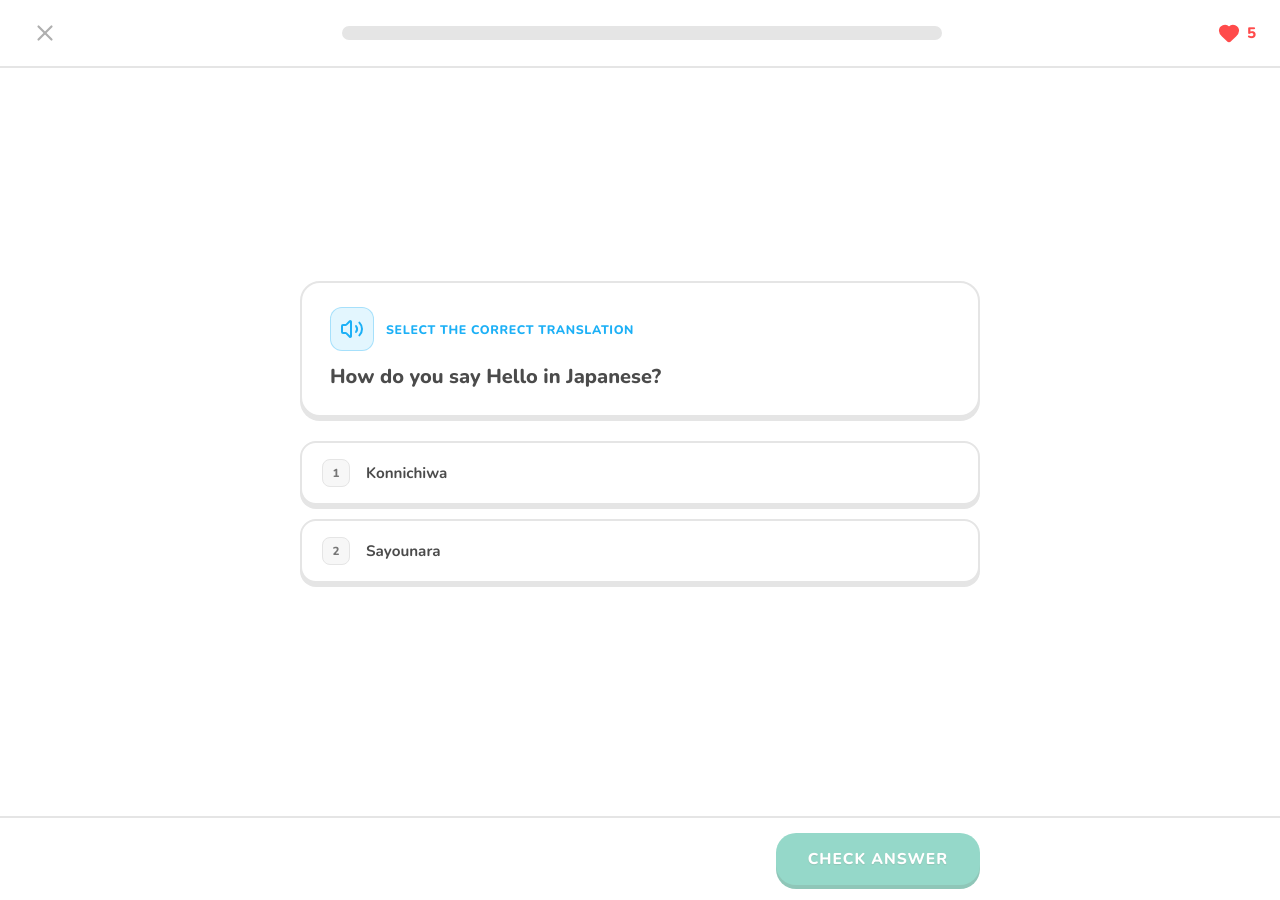
Scenario: LessonRunner Component (Quest Engine) › advances to next exercise when Continue is clicked on correct drawer
The image size is (1280, 900).
# Exercise 1
Click the radio button labelled "1 Konnichiwa" at (407,473), box [300,441,980,505]
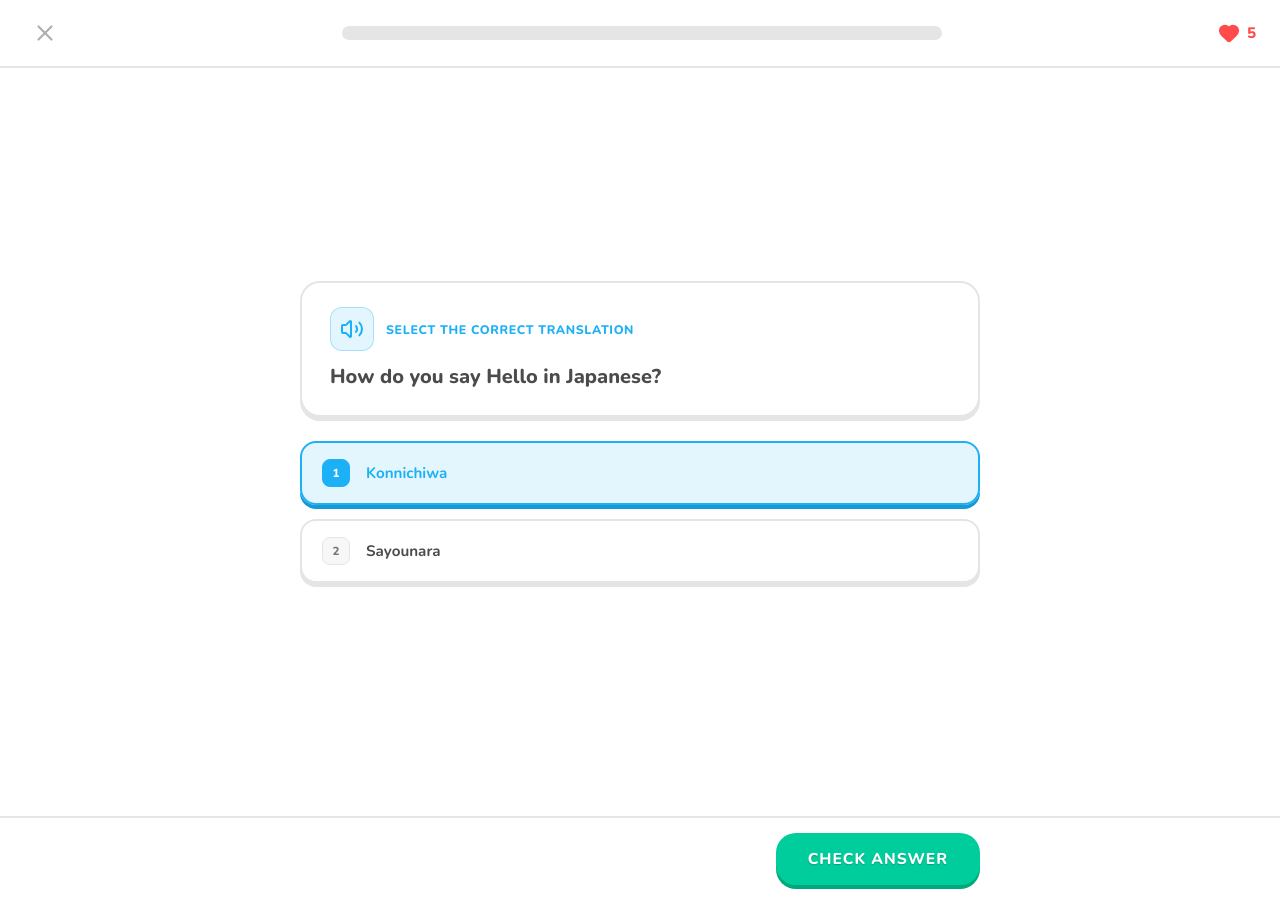
Click the button "Check Answer" at (878,859), box [776,833,980,885]
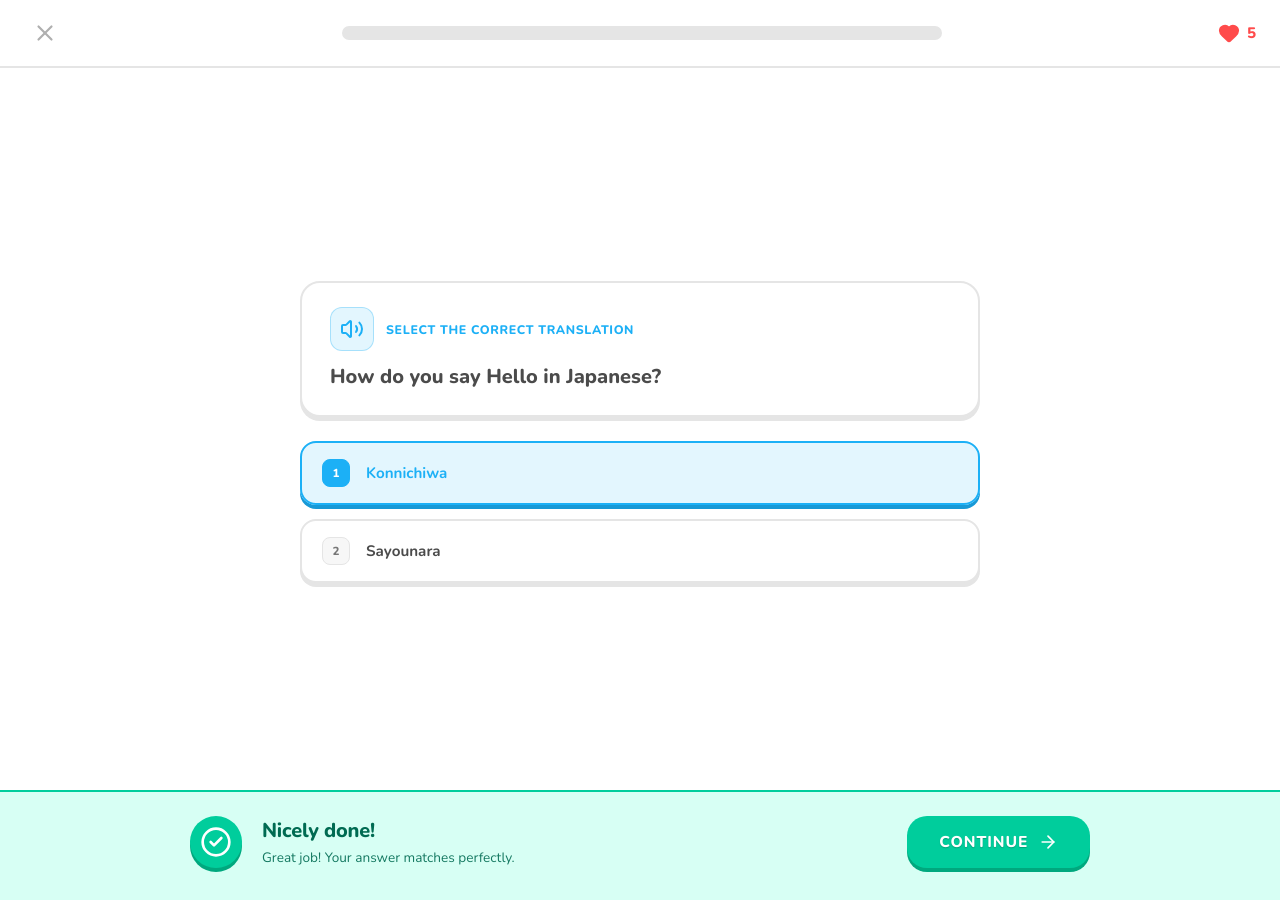
Click the button "Continue" at (999,842), box [907,816,1090,868]
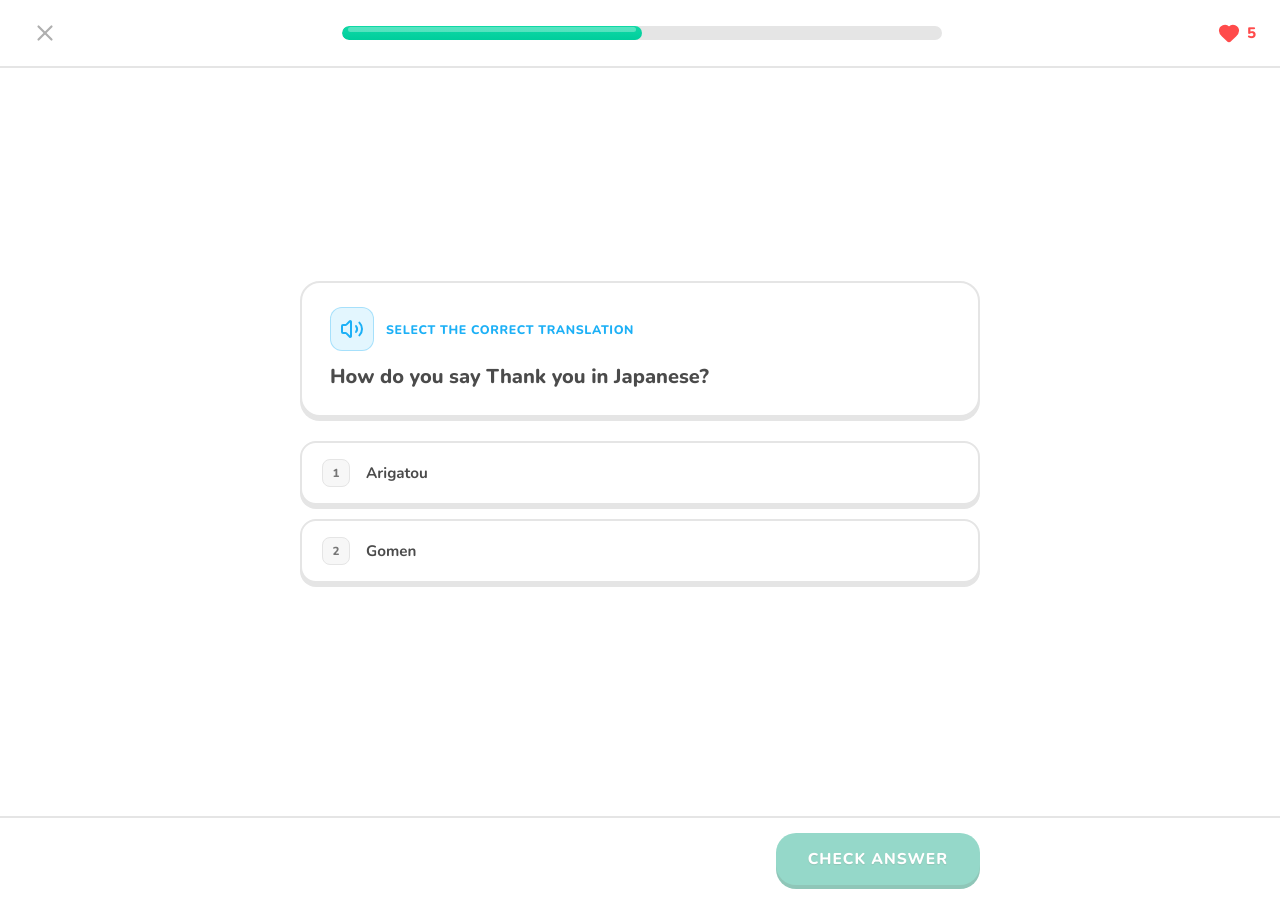
Check: the heading "How do you say Thank you in Japanese?" is shown, box [330,363,709,390]
Check: the radio button labelled "1 Arigatou" is shown, box [300,441,980,505]
